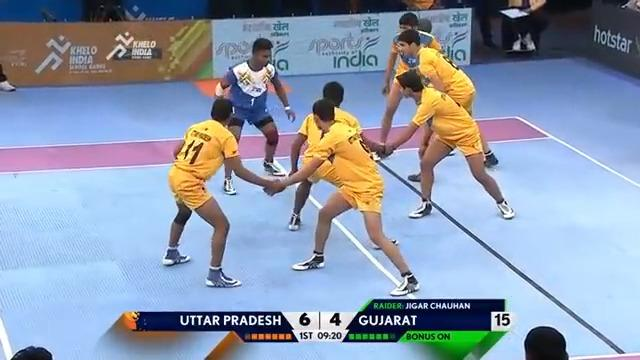Player: (263, 97, 420, 296), (161, 96, 284, 288), (374, 68, 515, 220), (391, 29, 499, 180), (285, 80, 384, 232)
Raider: (213, 37, 295, 194)
referee: (500, 0, 548, 55), (82, 0, 125, 22), (0, 63, 16, 91)
